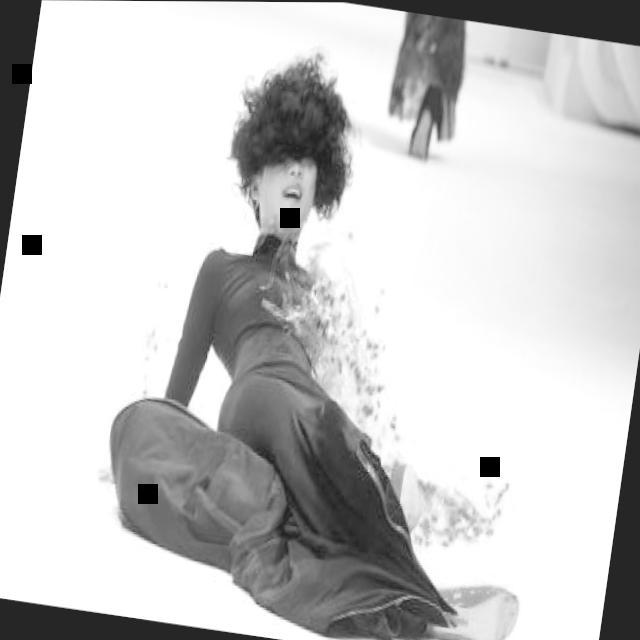Fall-Detected: (89, 10, 578, 640)
